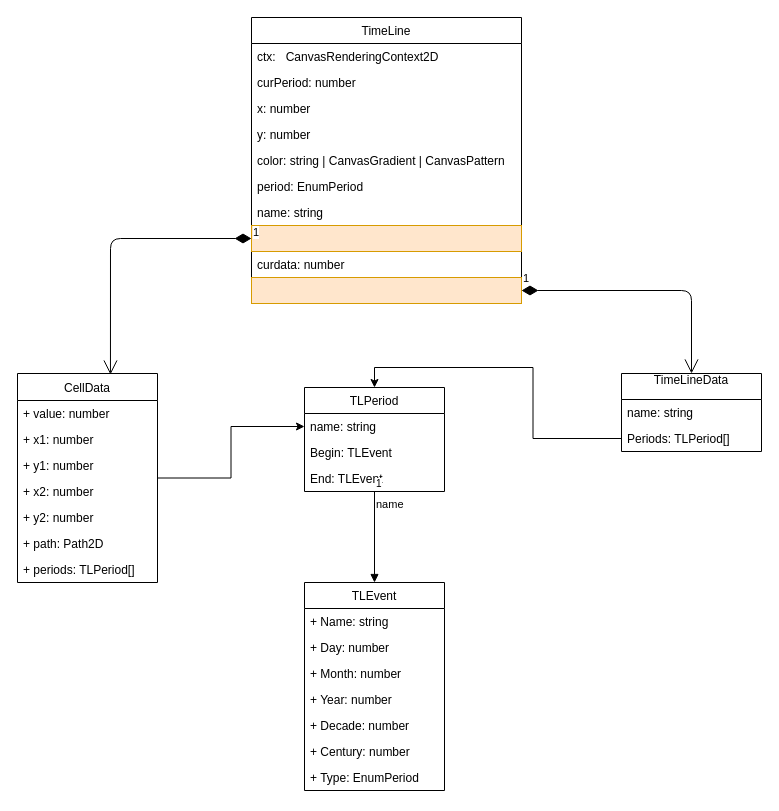
Image size: 779x811. Some labels were removed from this diagram. Here are the shapes that lost their labels. From the top down, the centre of each, then its label:
point (386, 238): data: CellData[]
point (386, 290): tldata: TimeLineData
